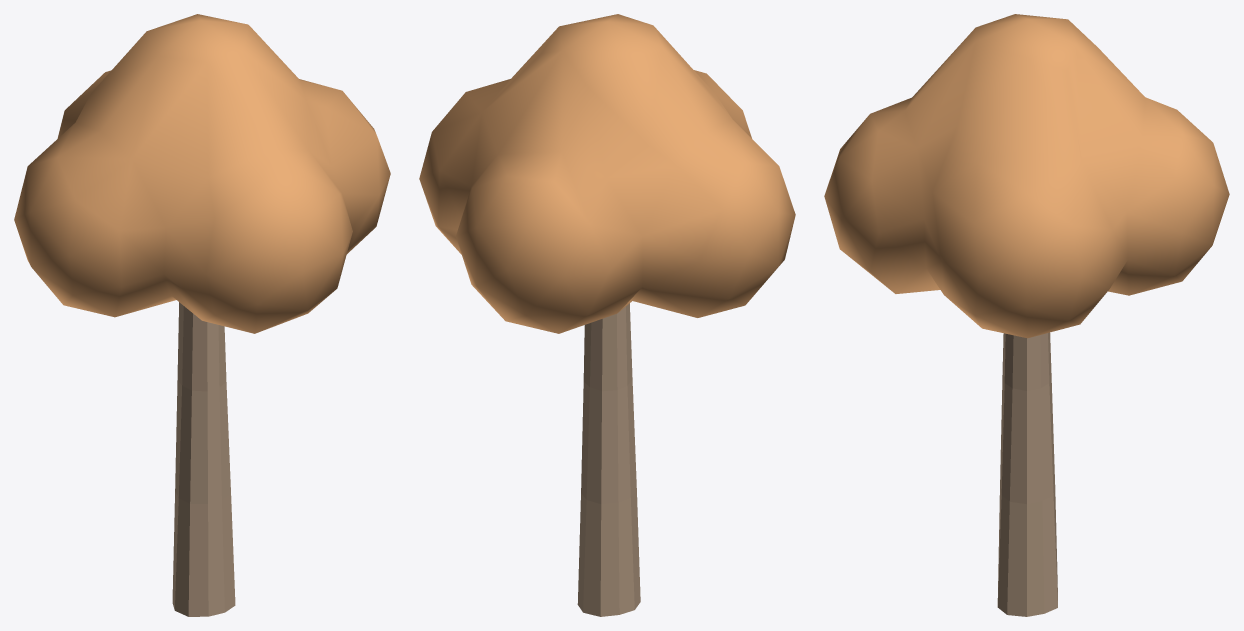
The model's file is maple.glb.
3 views of the same model, side by side, from view 1: azimuth 30°, elevation 25°; view 2: azimuth 150°, elevation 25°; view 3: azimuth 270°, elevation 25° (orthographic).
Parts seen in each view (by area): view 1: Maple_Canopy, Maple_Trunk; view 2: Maple_Canopy, Maple_Trunk; view 3: Maple_Canopy, Maple_Trunk.
Boxes of the visible parts, x1=… form: Maple_Canopy: x1=14, y1=14, x2=390, y2=333; Maple_Trunk: x1=172, y1=302, x2=235, y2=616; Maple_Canopy: x1=419, y1=14, x2=795, y2=333; Maple_Trunk: x1=577, y1=303, x2=640, y2=616; Maple_Canopy: x1=824, y1=14, x2=1229, y2=338; Maple_Trunk: x1=997, y1=332, x2=1057, y2=616.
Size of the model in its own units: 2.25 by 3.66 by 2.3.
